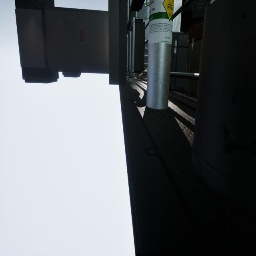0: (146, 0, 174, 111)
NitrogenTank ,: (192, 0, 256, 221)
